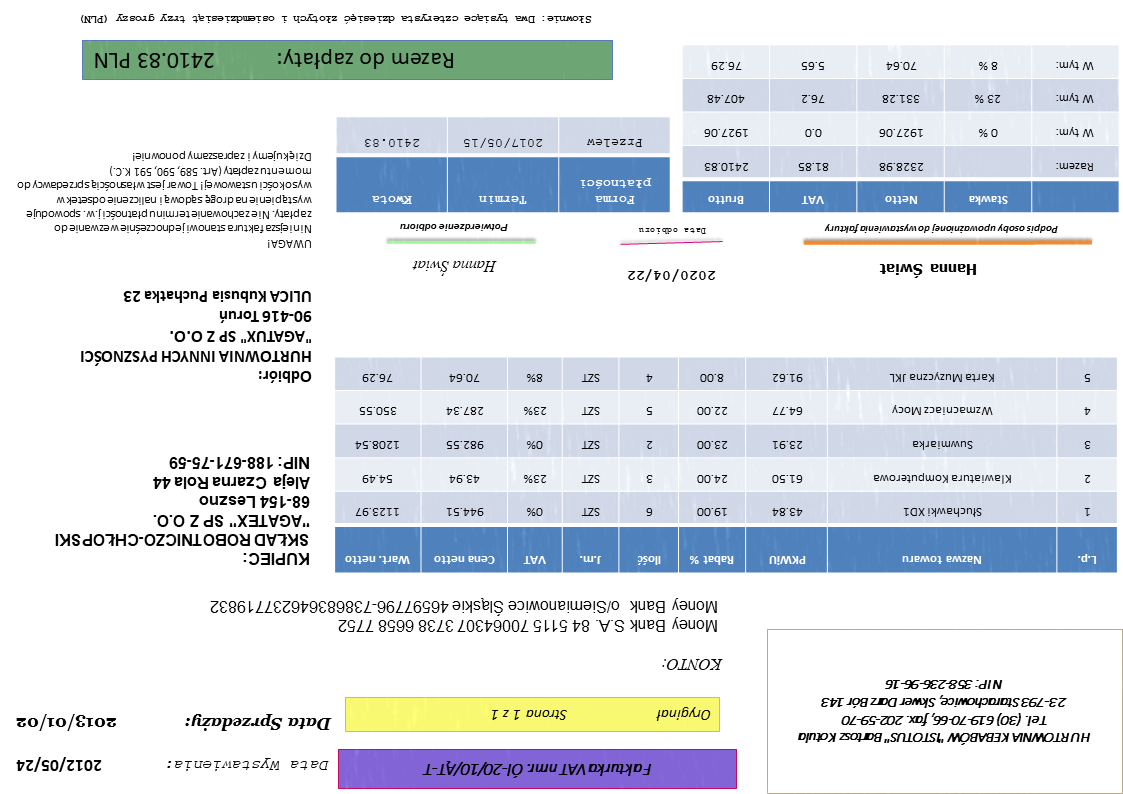Table: (332, 355, 1119, 575), (679, 43, 1122, 216), (336, 115, 672, 215)
TextBox: (14, 148, 316, 254), (53, 453, 314, 571), (78, 286, 315, 388), (207, 596, 721, 640), (795, 675, 1094, 747), (91, 47, 458, 76), (78, 9, 594, 29), (488, 703, 715, 726), (418, 760, 657, 780), (182, 709, 333, 735), (819, 222, 1061, 238), (164, 755, 333, 774), (10, 711, 118, 734), (876, 260, 982, 281), (624, 264, 720, 287), (12, 754, 106, 776), (409, 257, 499, 278), (397, 220, 513, 235), (659, 655, 726, 677), (636, 225, 709, 239)
